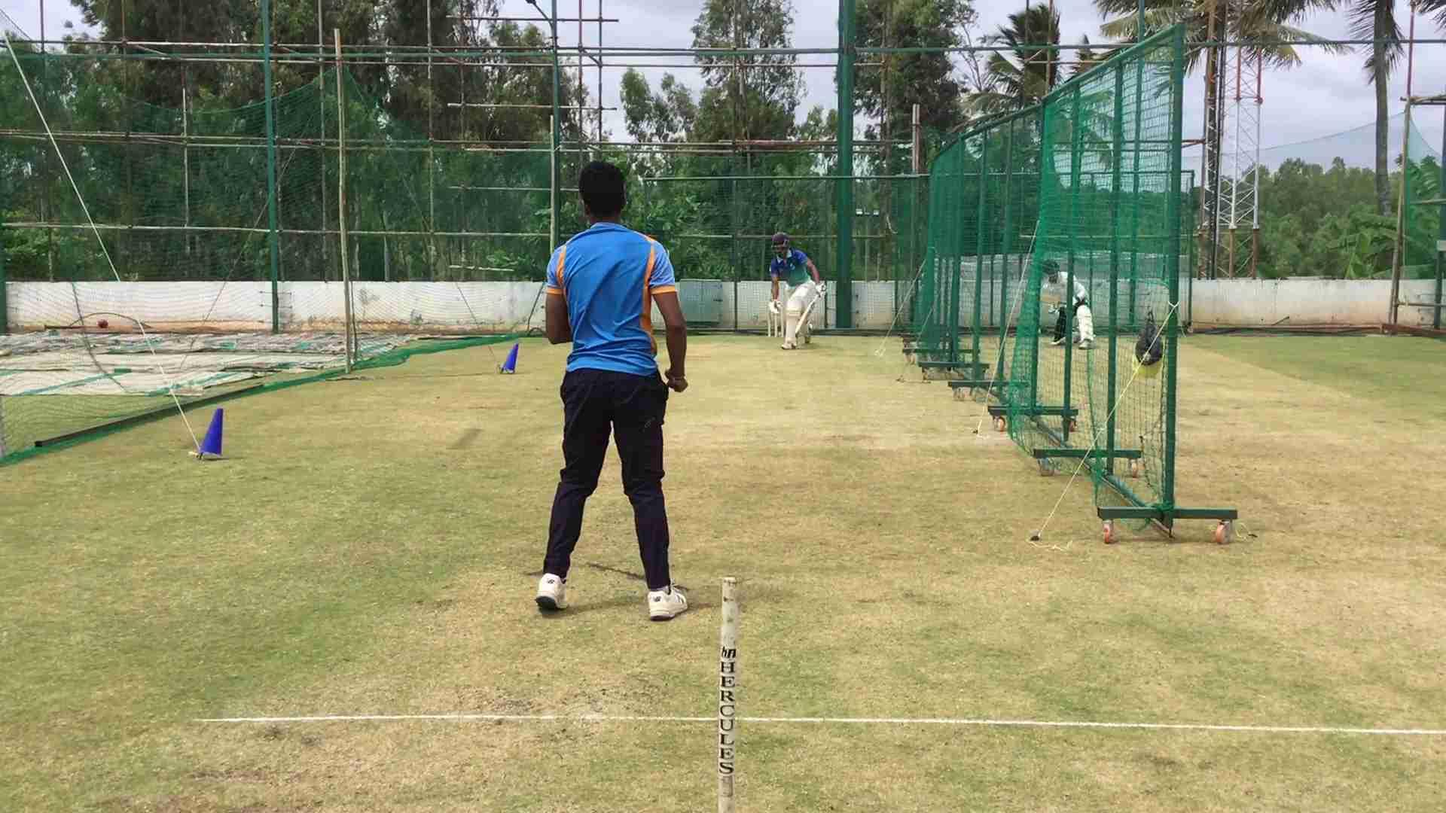batsman: (764, 228, 827, 350)
